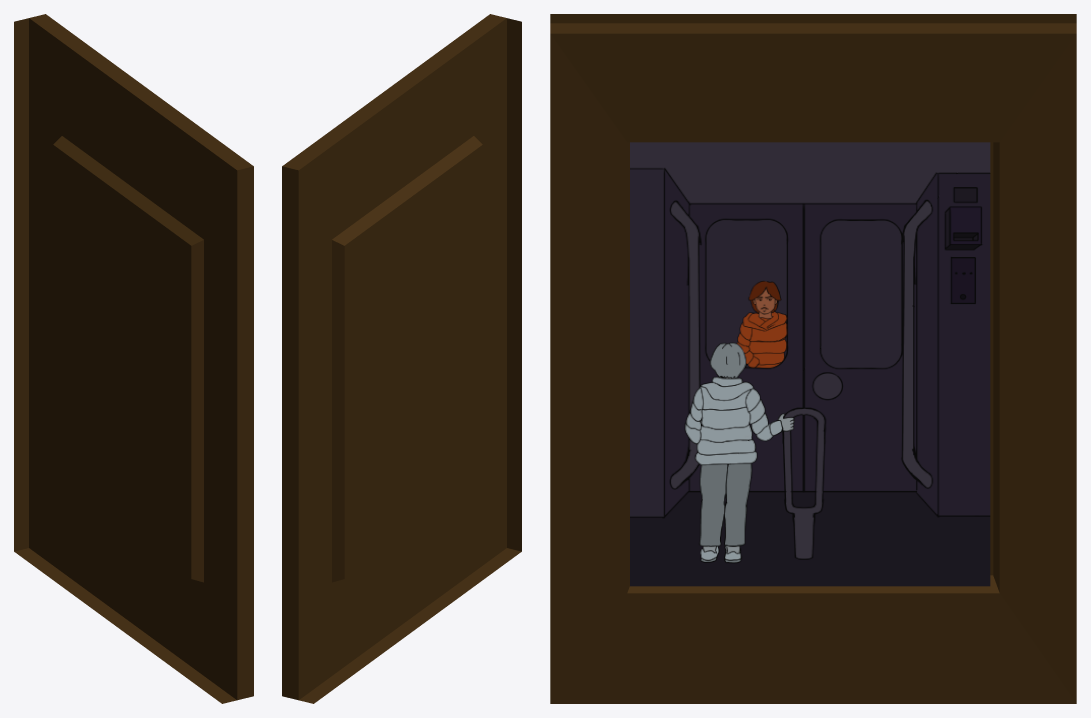
Rendered from Bubble2.glb.
3 renders of one model, left to right at view 1: azimuth 30°, elevation 25°; view 2: azimuth 150°, elevation 25°; view 3: azimuth 270°, elevation 25°, orthographic. The views are drawn at different scales.
Visible parts, largest first — view 1: Plane.001, Plane; view 2: Plane.001, Plane; view 3: Plane.001, Bubble2, Plane.
Part boxes in pixels (x1,y1,x2,y2): Plane.001: (29, 14, 253, 700); Plane: (14, 18, 236, 703); Plane.001: (282, 14, 506, 700); Plane: (299, 18, 521, 703); Plane.001: (550, 23, 1076, 703); Bubble2: (630, 142, 990, 586); Plane: (550, 14, 1076, 23).
Size of the model in its own units: 0.1001 by 1.6 by 1.14.
2 materials, 1 textured.
